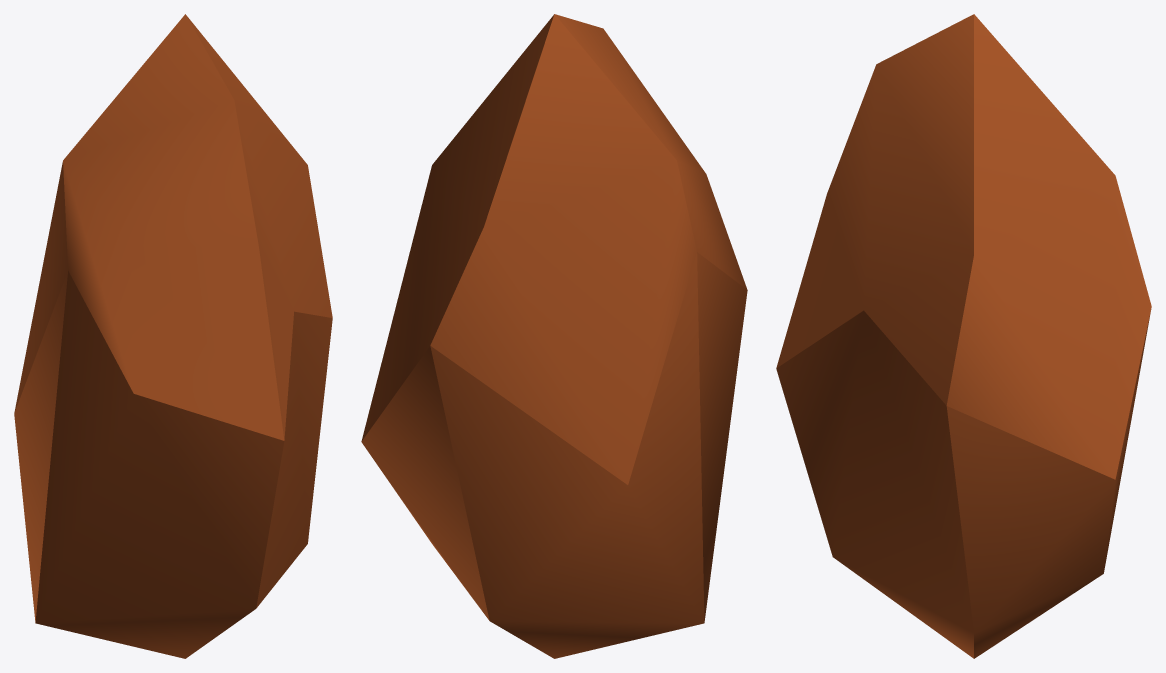
File: pedraCarne.fbx
3 views of the same model, side by side, from view 1: azimuth 30°, elevation 25°; view 2: azimuth 150°, elevation 25°; view 3: azimuth 270°, elevation 25° (orthographic).
Parts seen in each view (by area): view 1: pasted__pasted__pasted__pPlatonic3; view 2: pasted__pasted__pasted__pPlatonic3; view 3: pasted__pasted__pasted__pPlatonic3.
Part boxes in pixels (<box>): pasted__pasted__pasted__pPlatonic3: <box>14,14,332,658</box>; pasted__pasted__pasted__pPlatonic3: <box>361,14,747,658</box>; pasted__pasted__pasted__pPlatonic3: <box>776,14,1151,658</box>.
Size of the model in its own units: 3.41 by 7.41 by 3.91.
